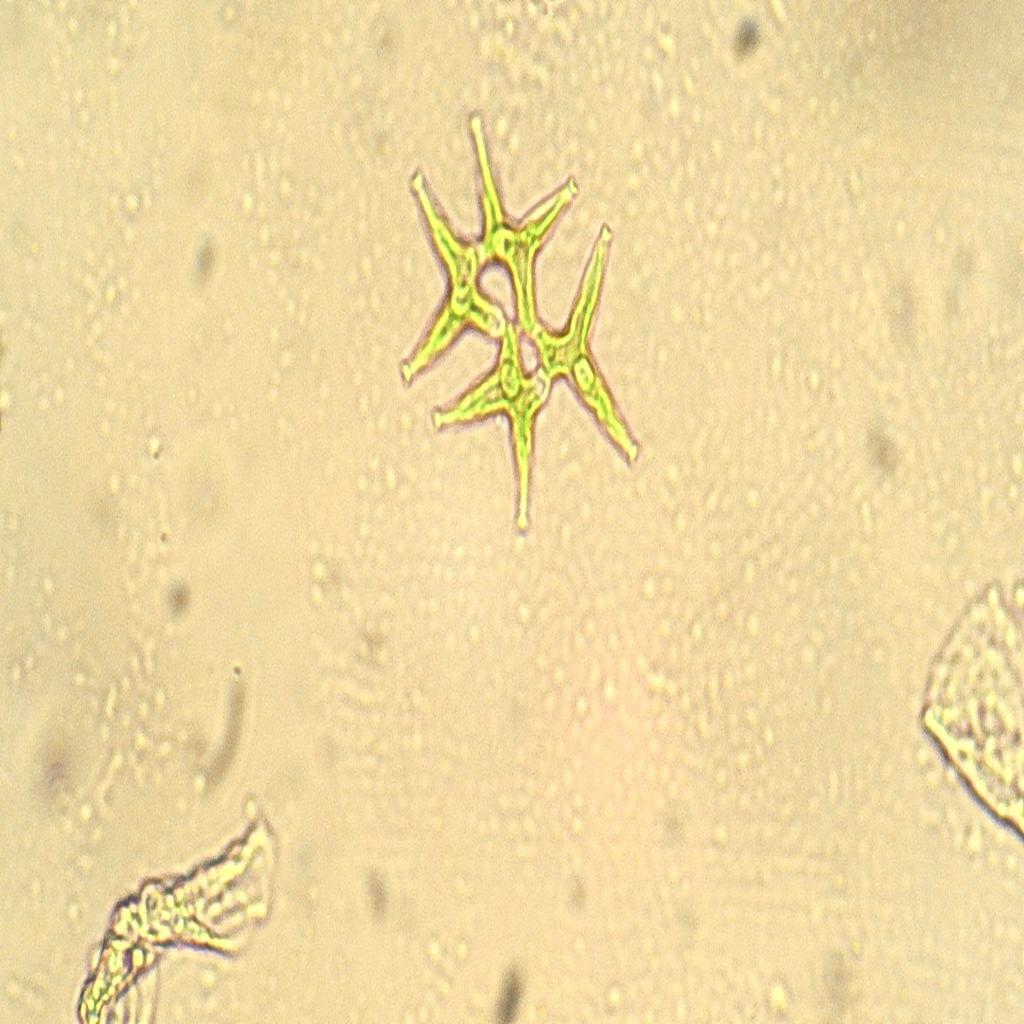Pediastrum_CF: (383, 102, 653, 562)
